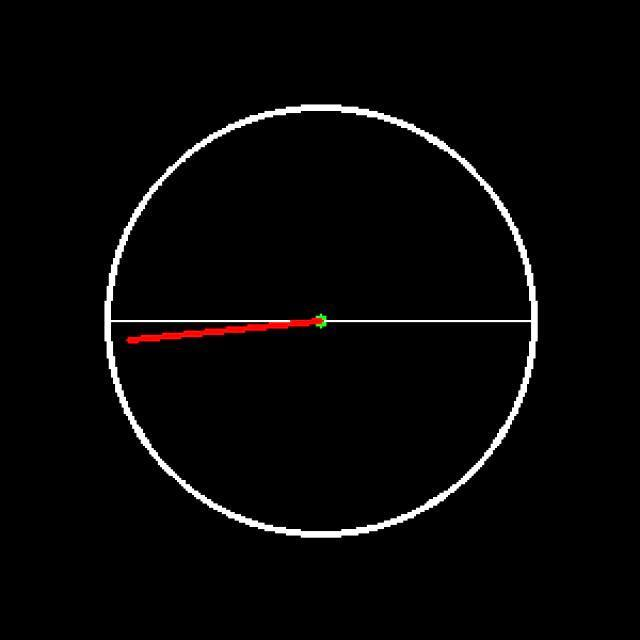Needle_Tip: (116, 316, 157, 363)
Needle_base: (284, 298, 357, 360)
